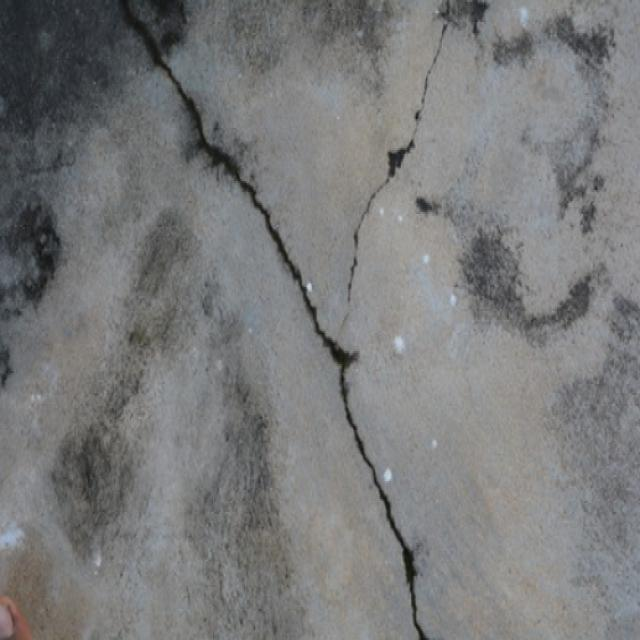branched cracks: (118, 0, 449, 639)
